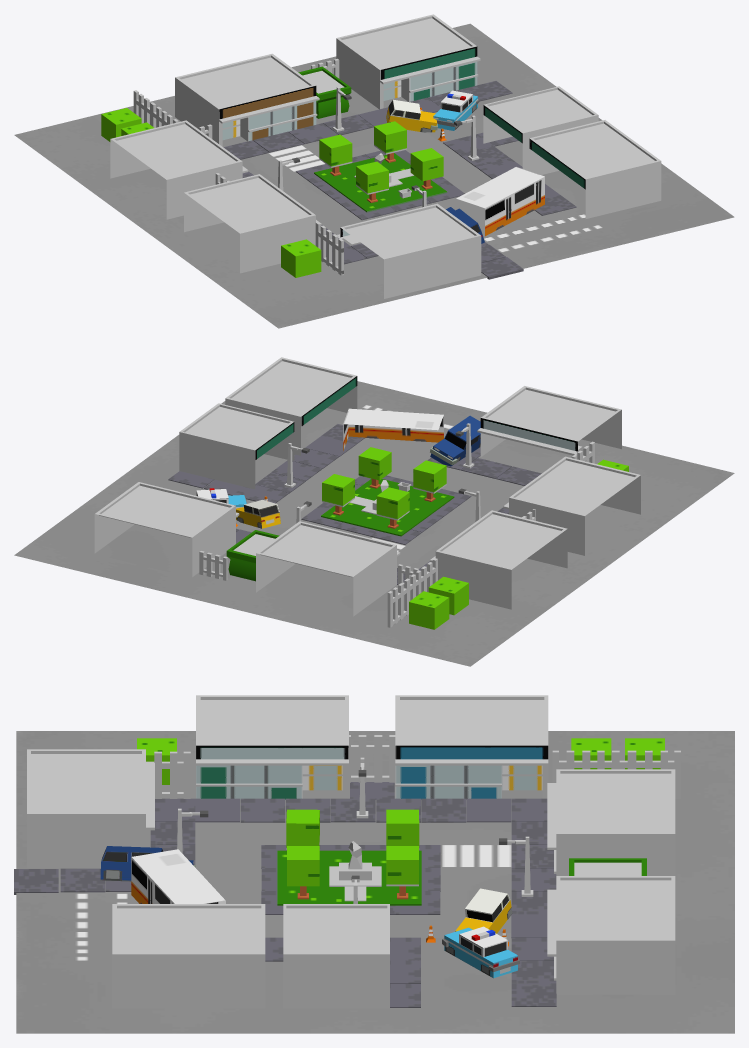
The picture shows the model from 3 angles, top to bottom: view 1: azimuth 30°, elevation 25°; view 2: azimuth 150°, elevation 25°; view 3: azimuth 270°, elevation 25°; orthographic projection. The views are drawn at different scales.
Parts seen in each view (by area): view 1: Background, Bulding_3, Block, Bulding_2, Bulding_6, Bulding_7, Bulding_5, Bulding_1, Bulding_8, Bus, Center_Green_Plane, skeep (+11 smaller); view 2: Background, Bulding_1, Block, Bulding_6, Bulding_2, Bulding_8, Bulding_3, Bulding_5, Bulding_7, Bus, Center_Green_Plane, bar (+12 smaller); view 3: Background, Block, Bulding_7, Bulding_1, Bulding_5, Bulding_3, Bulding_6, Bulding_2, Bulding_8, Bus, Center_Green_Plane, LandScape_Level2_v2_0003:Police_Car (+16 smaller).
Part boxes in pixels (bbox=[...]): Background: bbox=[14, 23, 734, 328]; Bulding_3: bbox=[336, 14, 480, 109]; Block: bbox=[223, 81, 576, 279]; Bulding_2: bbox=[175, 53, 319, 146]; Bulding_6: bbox=[337, 203, 481, 298]; Bulding_7: bbox=[529, 120, 661, 218]; Bulding_5: bbox=[184, 174, 321, 273]; Bulding_1: bbox=[110, 120, 248, 219]; Bulding_8: bbox=[483, 86, 598, 170]; Bus: bbox=[456, 167, 544, 236]; Center_Green_Plane: bbox=[314, 153, 447, 212]; skeep: bbox=[298, 66, 351, 118]; Background: bbox=[14, 381, 734, 666]; Bulding_1: bbox=[430, 510, 567, 609]; Block: bbox=[168, 420, 541, 584]; Bulding_6: bbox=[477, 386, 621, 456]; Bulding_2: bbox=[256, 521, 400, 616]; Bulding_8: bbox=[179, 403, 294, 489]; Bulding_3: bbox=[94, 482, 239, 576]; Bulding_5: bbox=[503, 456, 640, 555]; Bulding_7: bbox=[225, 357, 357, 455]; Bus: bbox=[343, 408, 443, 450]; Center_Green_Plane: bbox=[321, 479, 454, 536]; bar: bbox=[387, 558, 437, 627]; Background: bbox=[16, 731, 734, 1033]; Block: bbox=[14, 782, 556, 1007]; Bulding_7: bbox=[112, 904, 265, 1008]; Bulding_1: bbox=[395, 695, 548, 799]; Bulding_5: bbox=[196, 695, 348, 799]; Bulding_3: bbox=[547, 876, 675, 994]; Bulding_6: bbox=[27, 749, 154, 867]; Bulding_2: bbox=[547, 769, 675, 875]; Bulding_8: bbox=[283, 904, 389, 1008]; Bus: bbox=[131, 849, 225, 903]; Center_Green_Plane: bbox=[277, 850, 421, 905]; LandScape_Level2_v2_0003:Police_Car: bbox=[442, 926, 519, 978].
Size of the model in its own units: 62.95 by 6.18 by 63.41.
